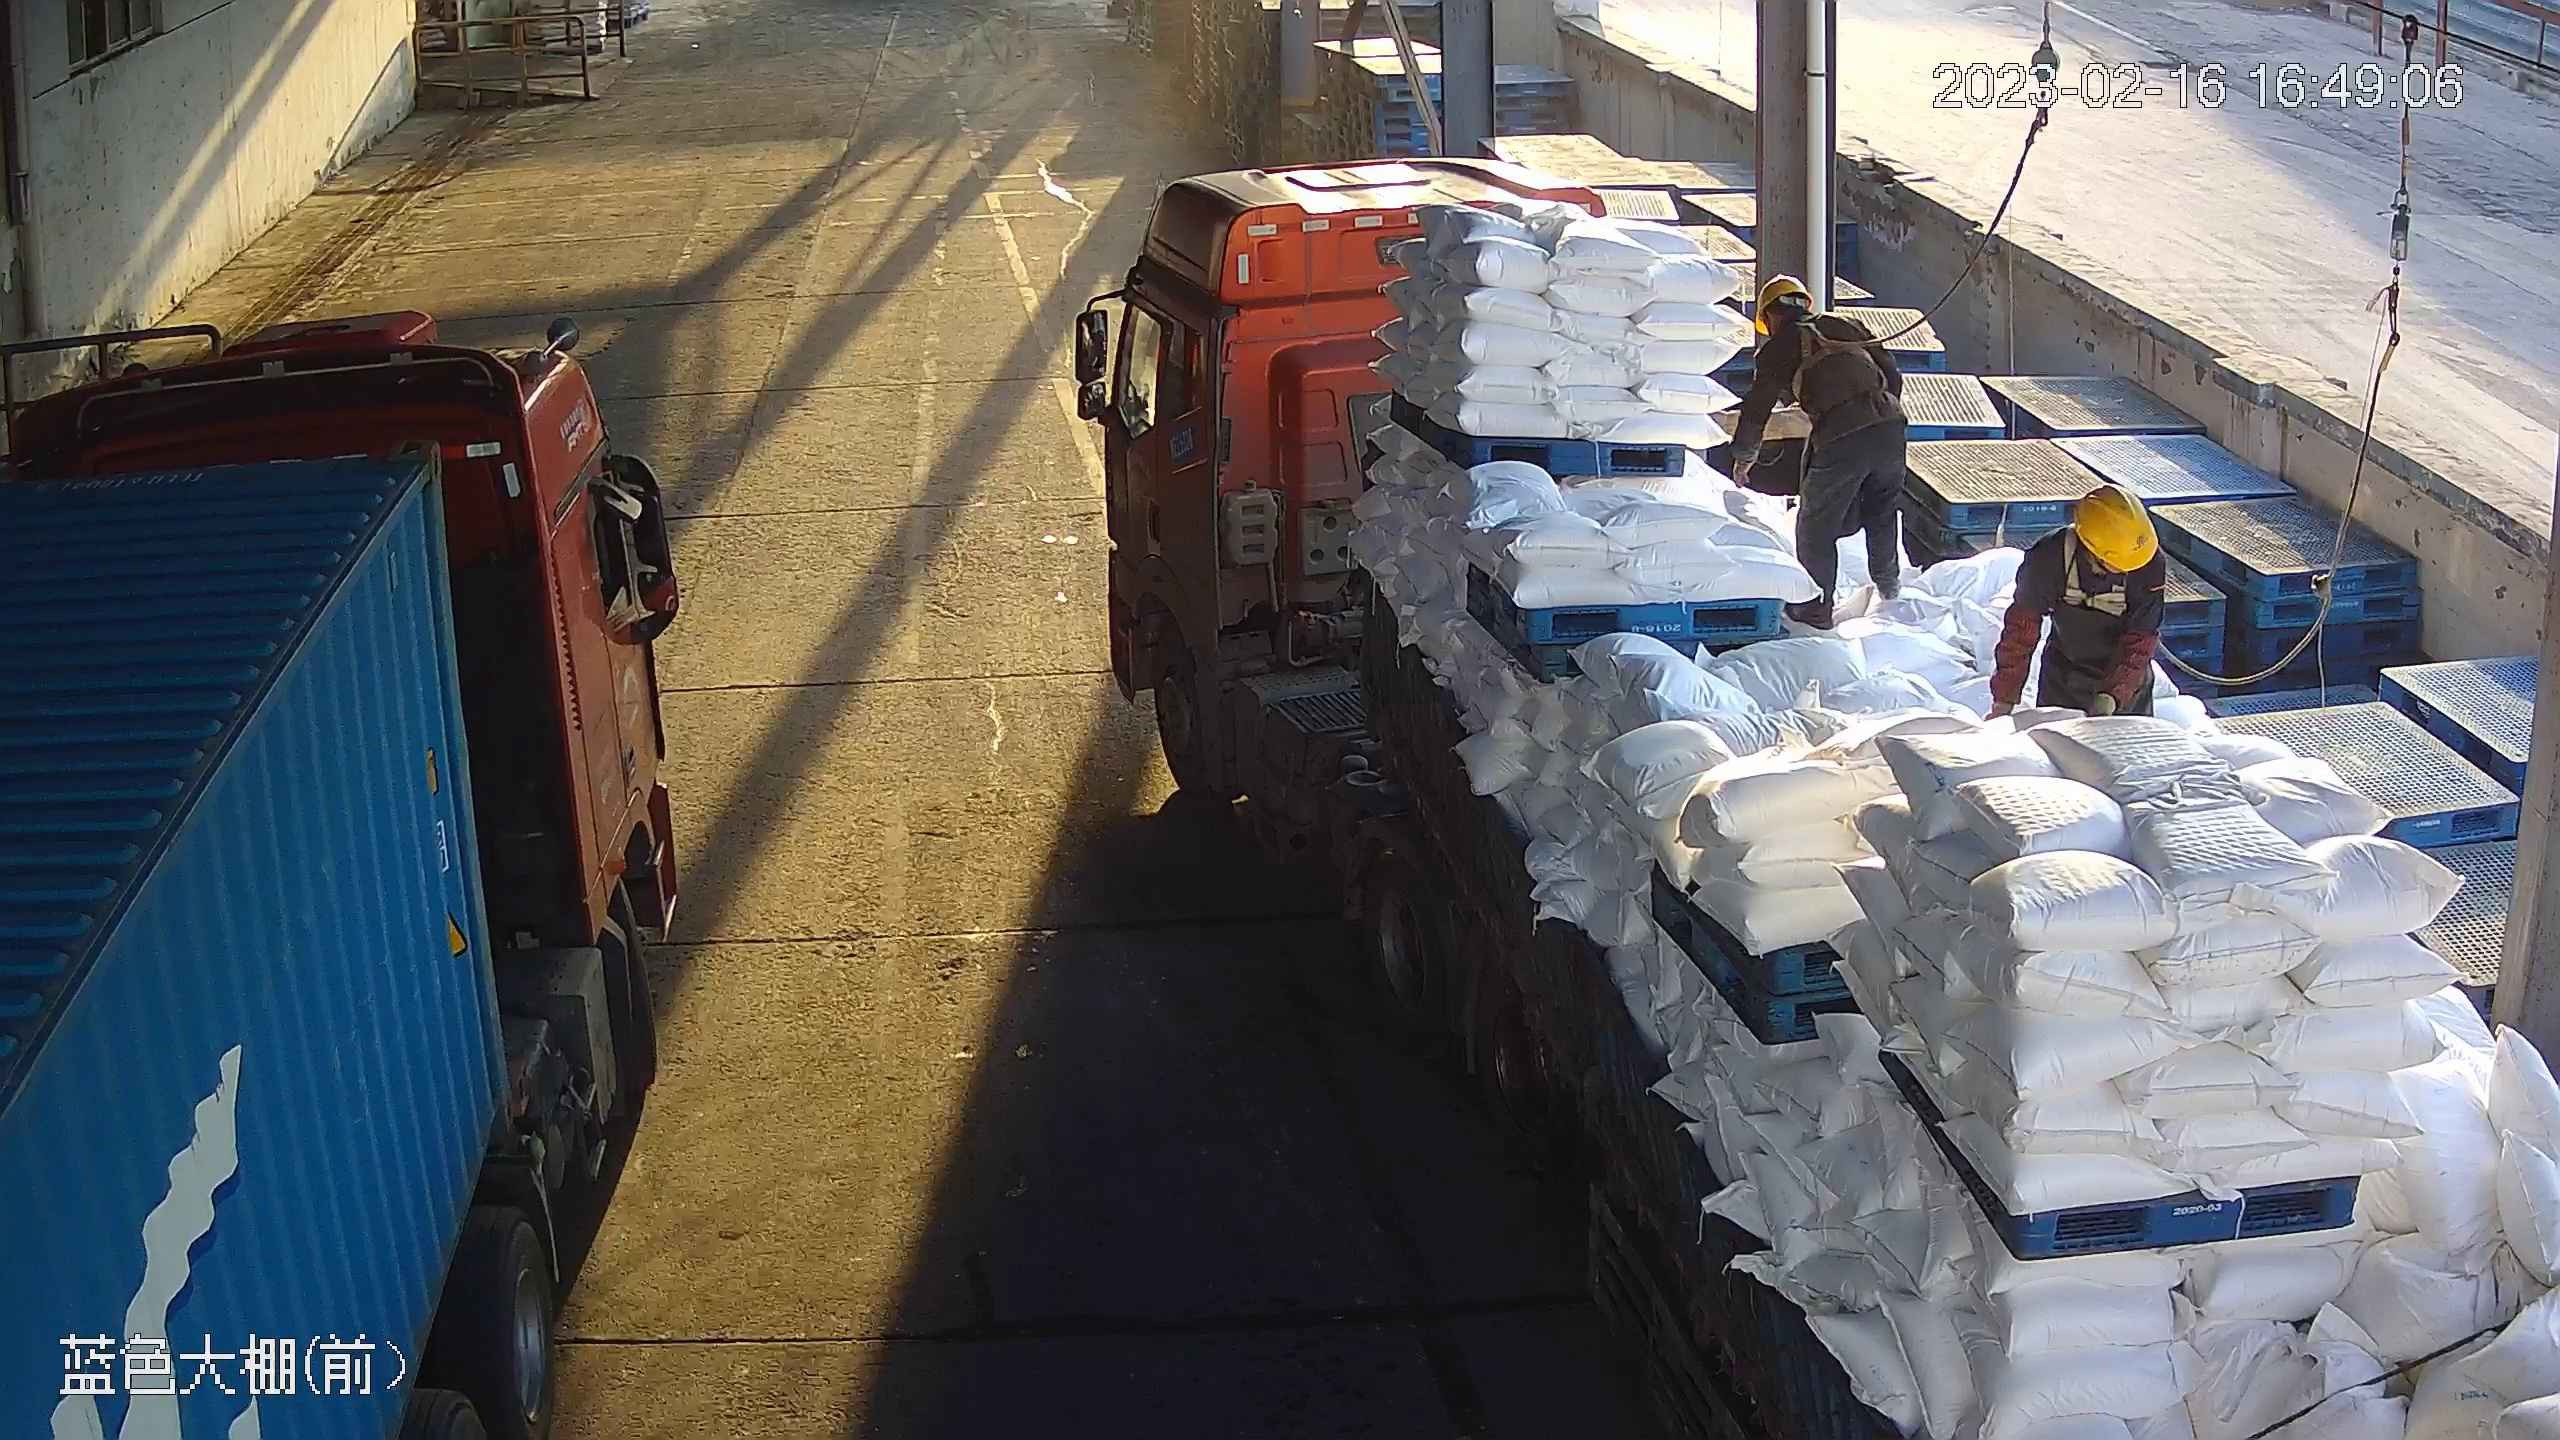belt: (1791, 311, 1889, 392), (2061, 522, 2128, 617)
head: (2020, 485, 2166, 601), (1749, 271, 1872, 368)
helmet: (2076, 483, 2159, 572), (1755, 272, 1813, 335)
people: (1730, 273, 1909, 630), (1983, 484, 2166, 718)
truck: (1072, 155, 2560, 1440), (4, 306, 682, 1440)
